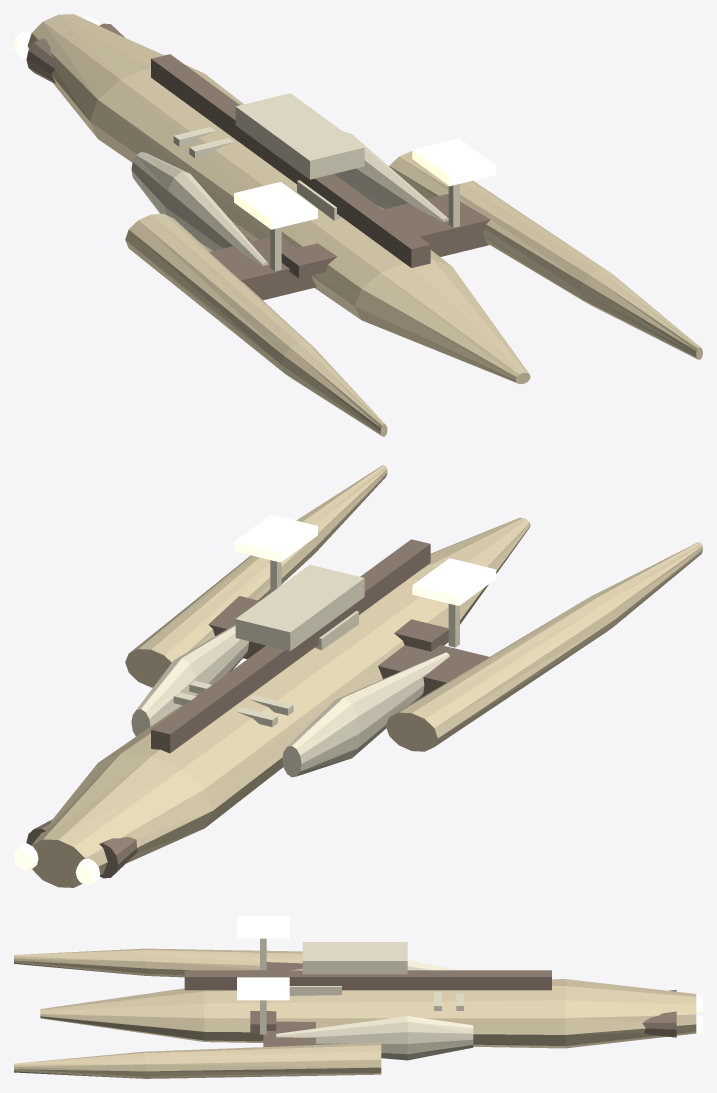
3 views of the same model, one above another, from view 1: azimuth 30°, elevation 25°; view 2: azimuth 150°, elevation 25°; view 3: azimuth 270°, elevation 25° (orthographic). The views are drawn at different scales.
Bounding box in the file's own units: 4.49 × 1.64 × 11.34.
